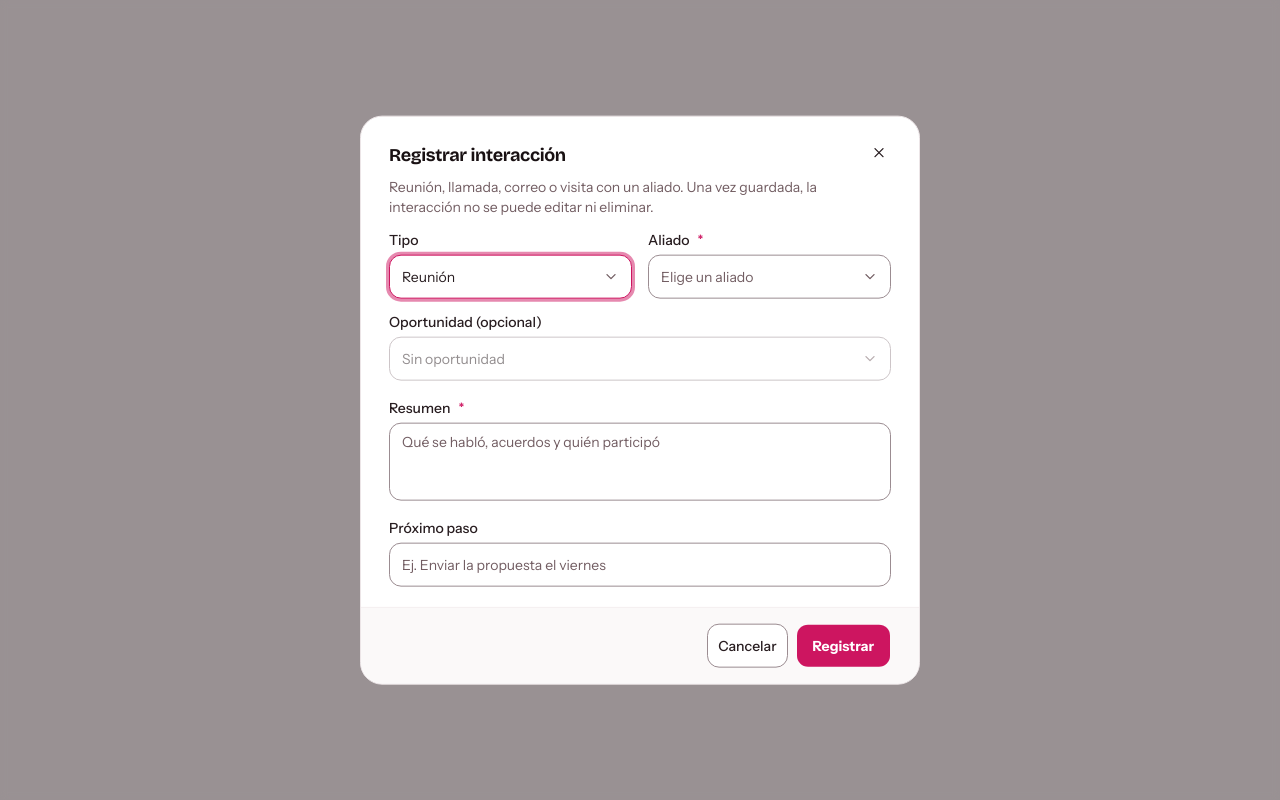
Test: InteraccionFormDialog › blocks the submit and asks for an aliado when none is chosen
Step 1. Type "Nota sin aliado" into the text box labelled "Resumen *" → (640, 461), box [389, 422, 891, 500]
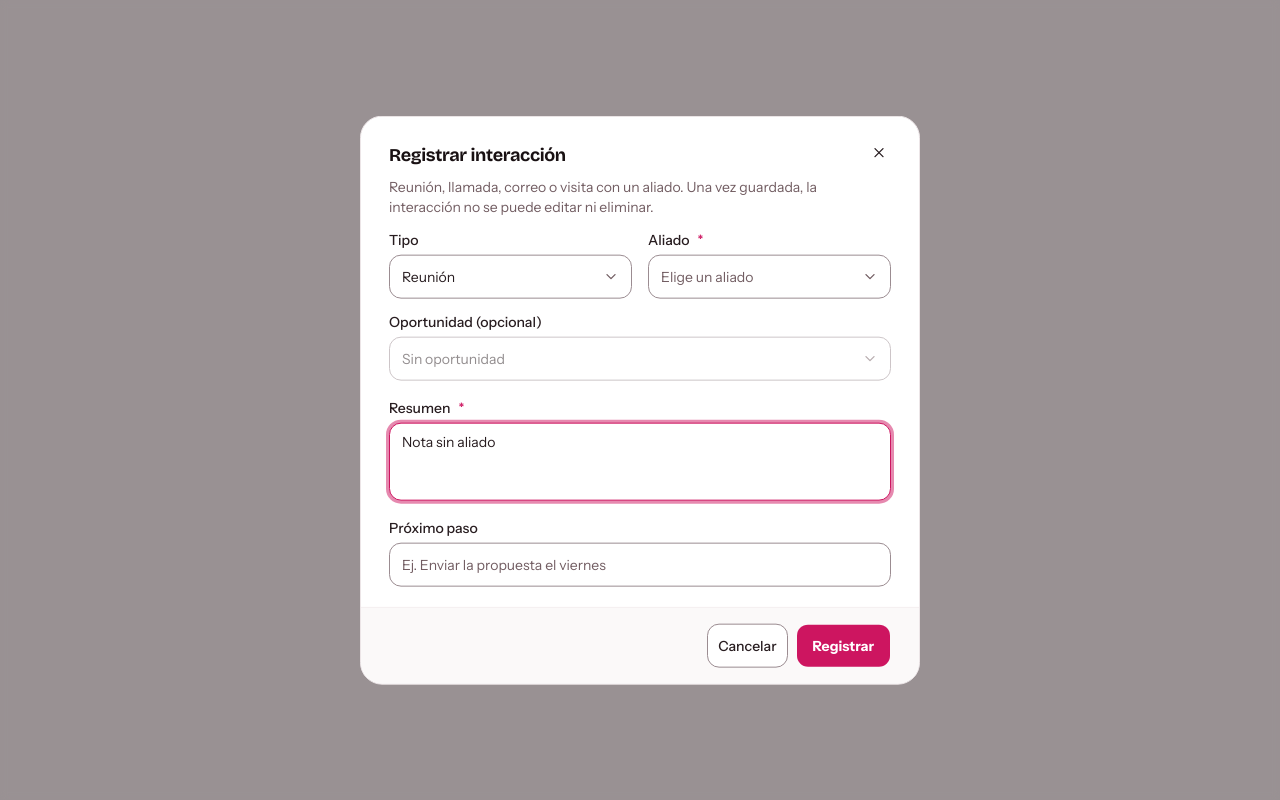
Step 2. Click the button "Registrar" → (843, 645), box [796, 623, 891, 667]
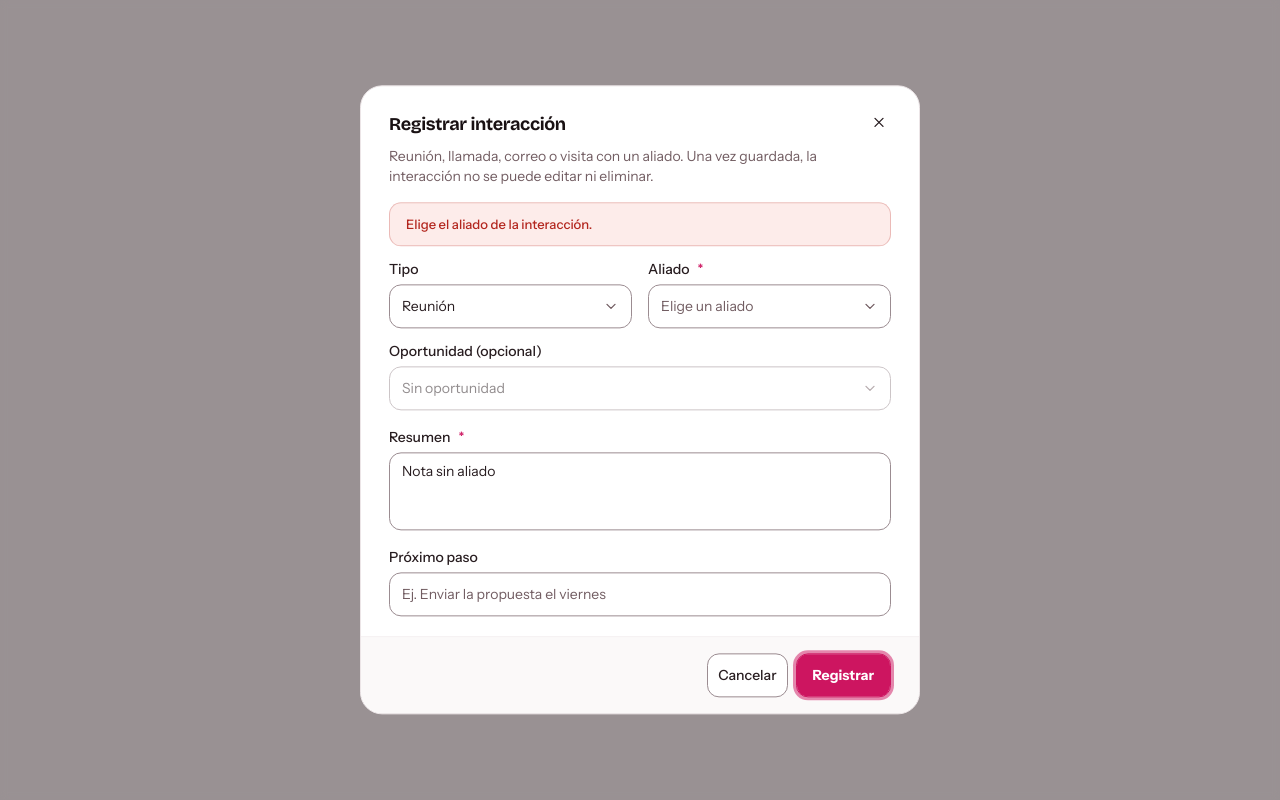
Expected: the message shows "aliado", [406, 216, 592, 232]
